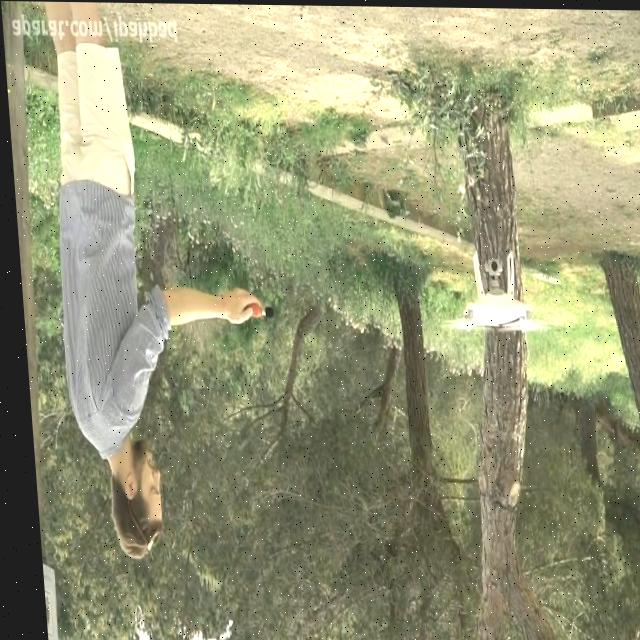drone: (433, 244, 546, 331)
